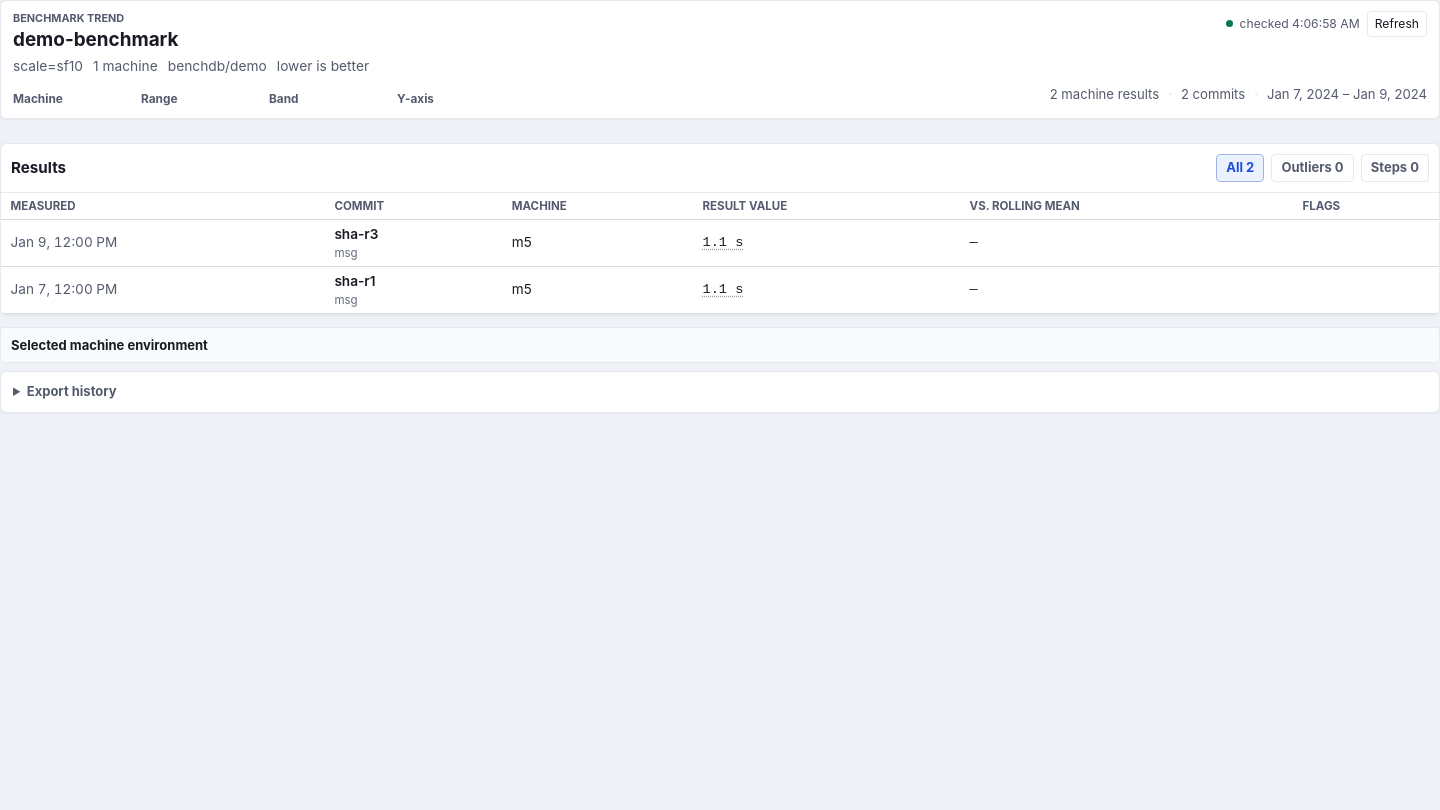
it: TrendPage › keeps the selected result when a refresh inserts an earlier point
Expected: the link "sha-r3" is shown, left=334, top=226, right=378, bottom=242
Click the row "sha-r3". click: (720, 243)
box: left=1, top=220, right=1439, bottom=267
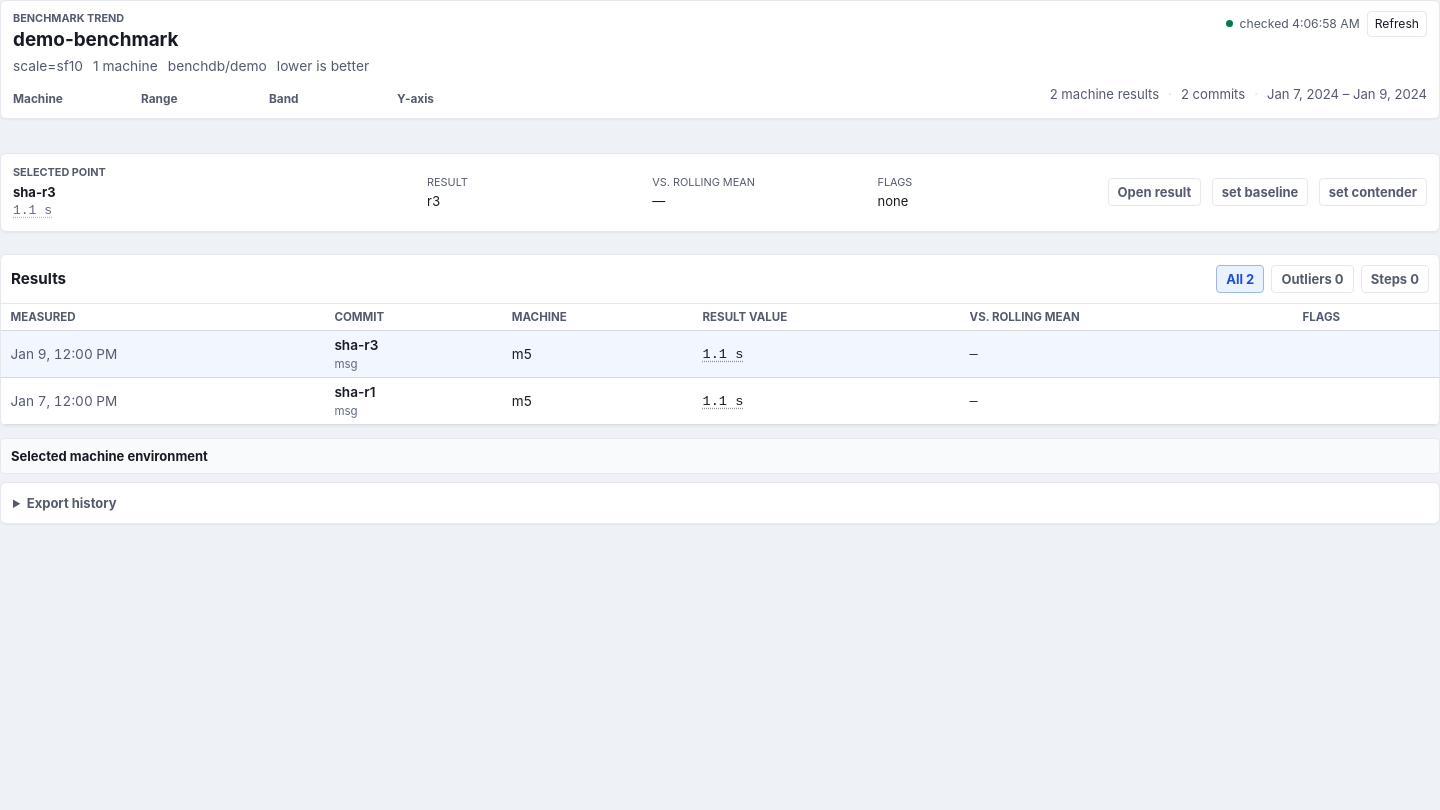
Click the button "Refresh". click: (1397, 24)
box: left=1367, top=11, right=1427, bottom=37
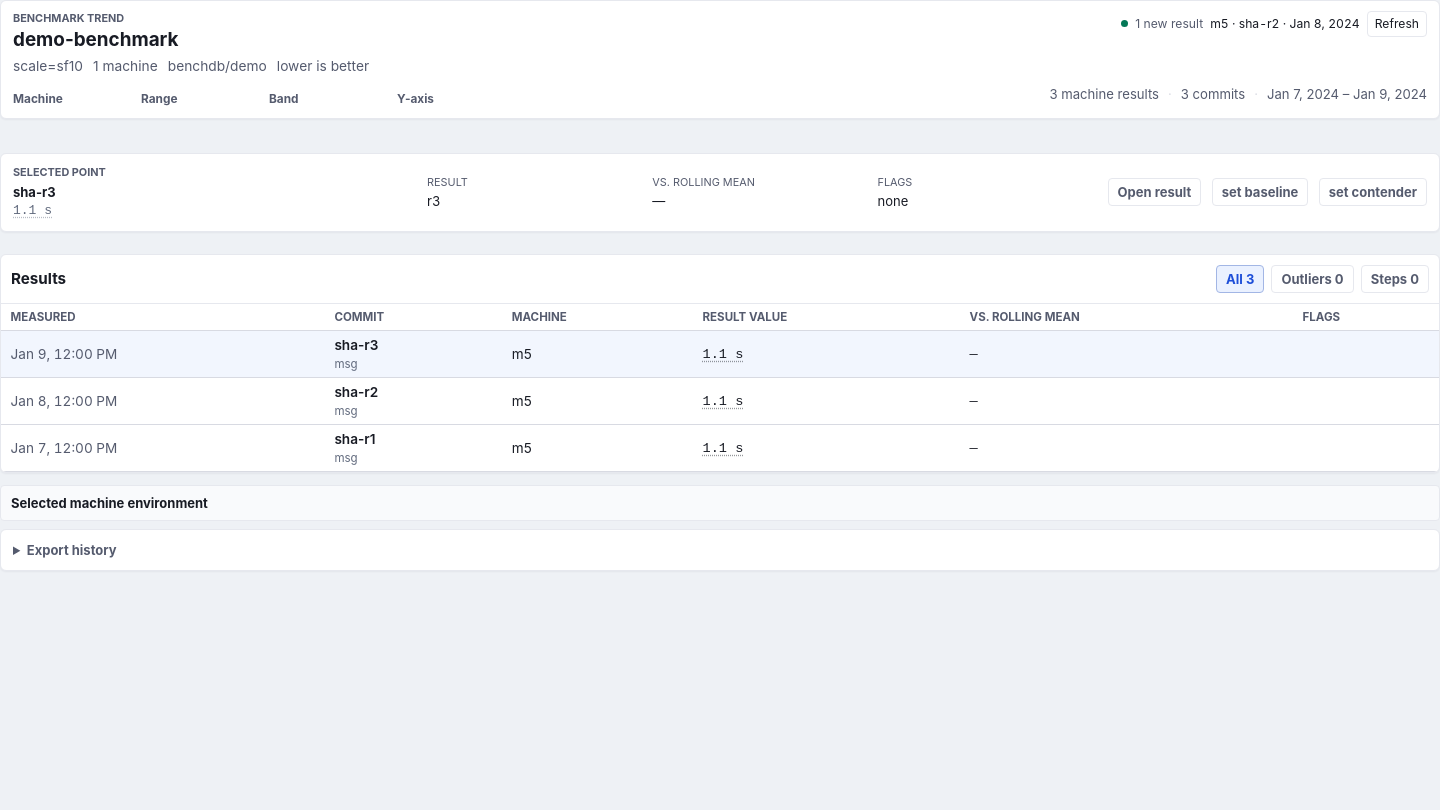
Expected: the element "selected point" shows "r3", left=427, top=193, right=440, bottom=209
Expected: the text "1 new result" is shown, left=1135, top=15, right=1203, bottom=33
